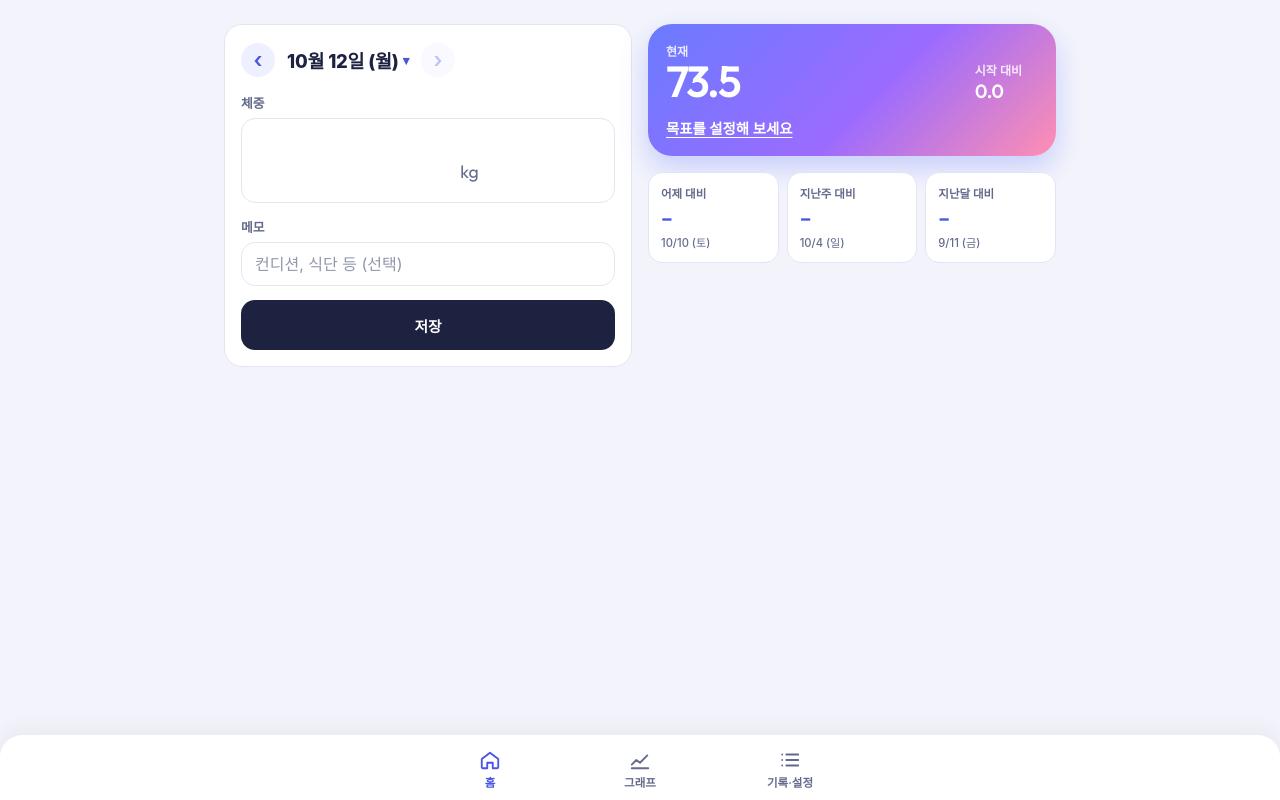
Test: home screen › moves to the previous and next day with the arrow buttons
Expected: the navigation bar is shown, top-left (0, 735), bottom-right (1279, 799)
Expected: the button named "다음 날" is disabled, top-left (421, 43), bottom-right (455, 77)
Click the button named "이전 날" at (258, 60), box top-left (241, 43), bottom-right (275, 77)
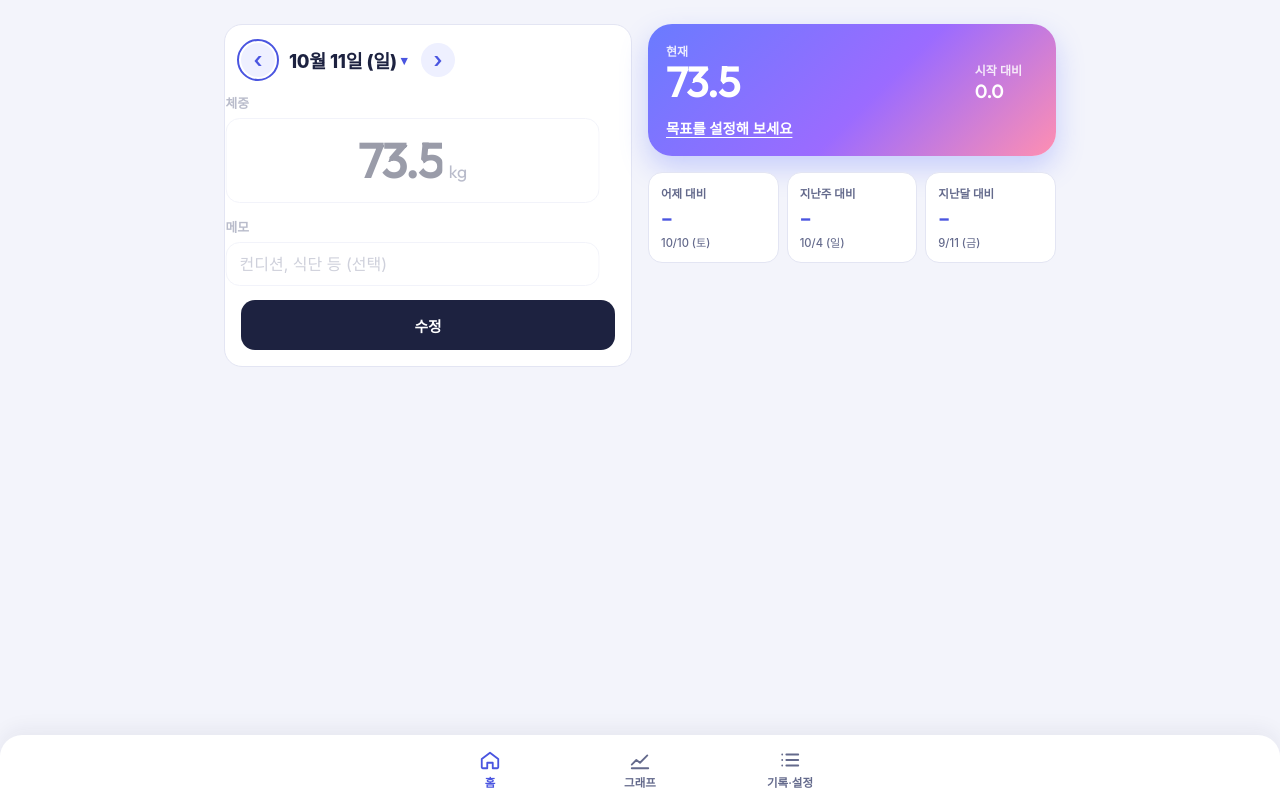
Now the button "10월 11일 (일) ▾" is shown, box top-left (279, 41), bottom-right (417, 79)
Now the field named "체중(kg)" holds "73.5", box top-left (363, 133), bottom-right (448, 188)
Now the button named "다음 날" is enabled
Click the button named "다음 날" at (438, 60), box top-left (421, 43), bottom-right (455, 77)
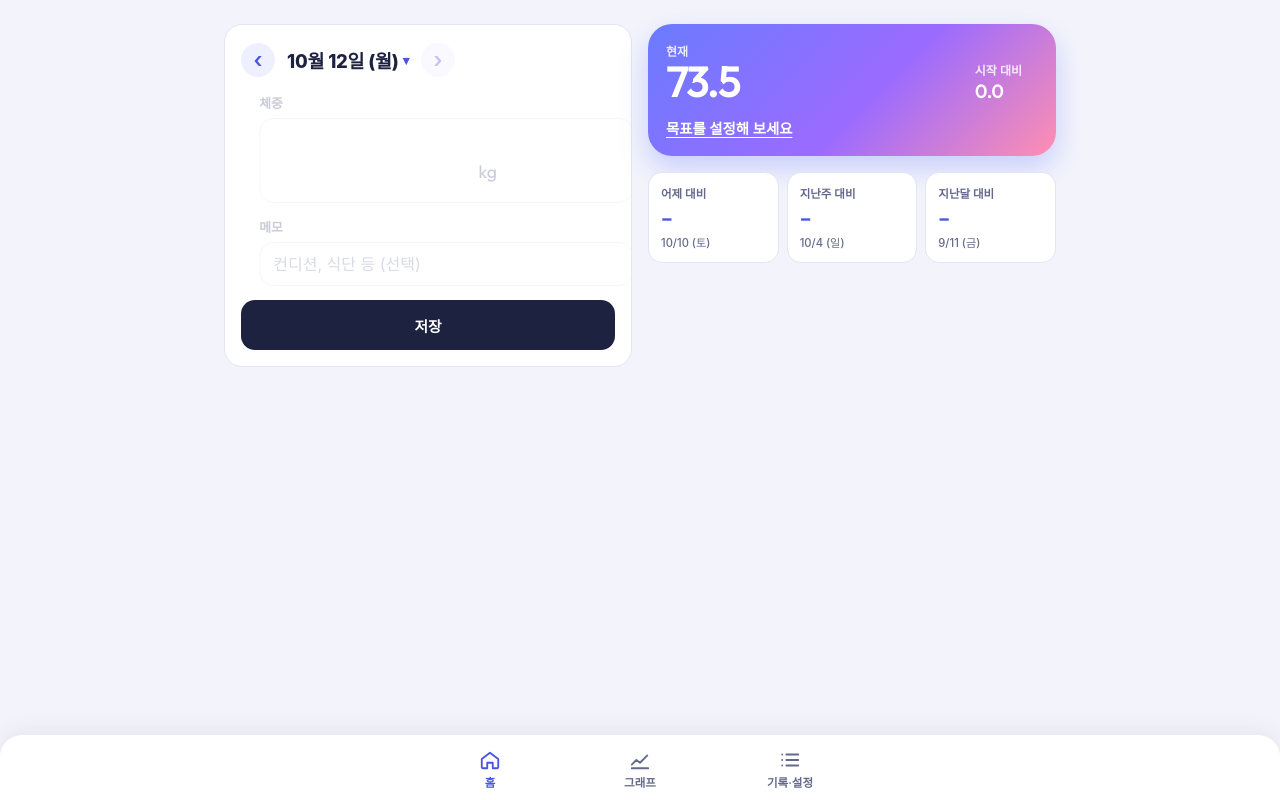
Expected: the field labelled "체중(kg)" is empty, top-left (393, 133), bottom-right (470, 188)
Now the button "10월 12일 (월) ▾" is shown, box top-left (279, 41), bottom-right (417, 79)
Now the button named "다음 날" is disabled, box top-left (421, 43), bottom-right (455, 77)
